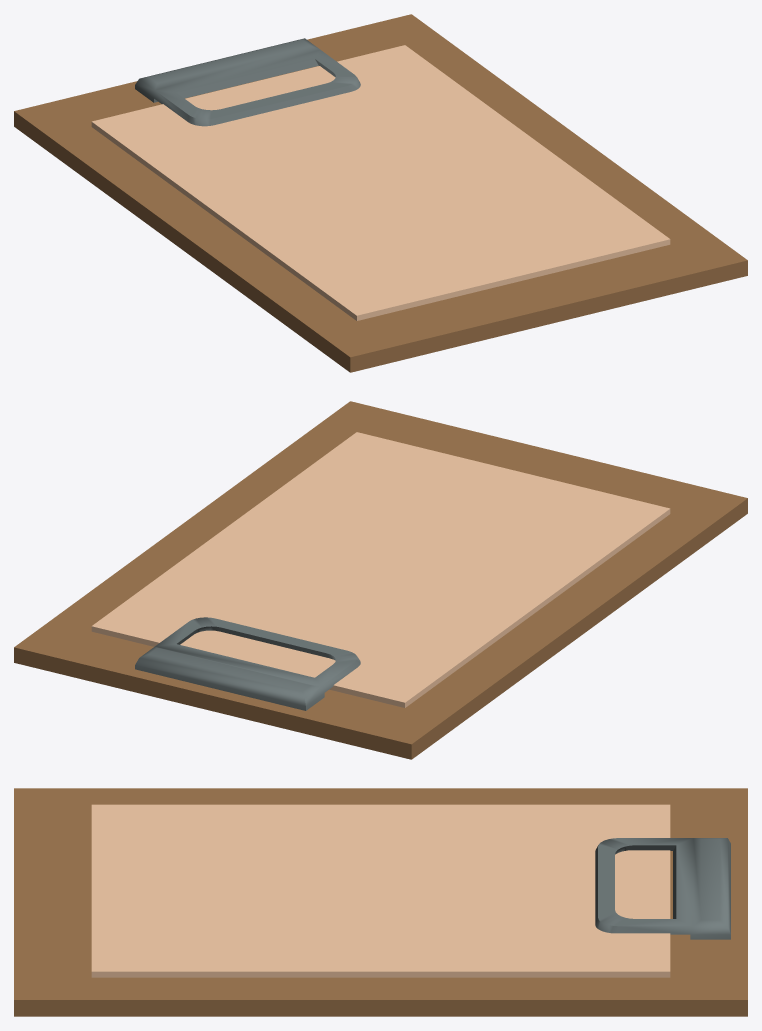
The model's file is Dossier.fbx.
The picture shows the model from 3 angles, top to bottom: view 1: azimuth 30°, elevation 25°; view 2: azimuth 150°, elevation 25°; view 3: azimuth 270°, elevation 25°; orthographic projection. The views are drawn at different scales.
Visible parts, largest first — view 1: Dossier; view 2: Dossier; view 3: Dossier.
Part boxes in pixels (box(x1,y1,x2,y2)): Dossier: box(14, 14, 747, 372); Dossier: box(14, 401, 747, 759); Dossier: box(14, 788, 747, 1016).
Bounding box in the file's own units: 0.2676 × 0.0187 × 0.3921.
